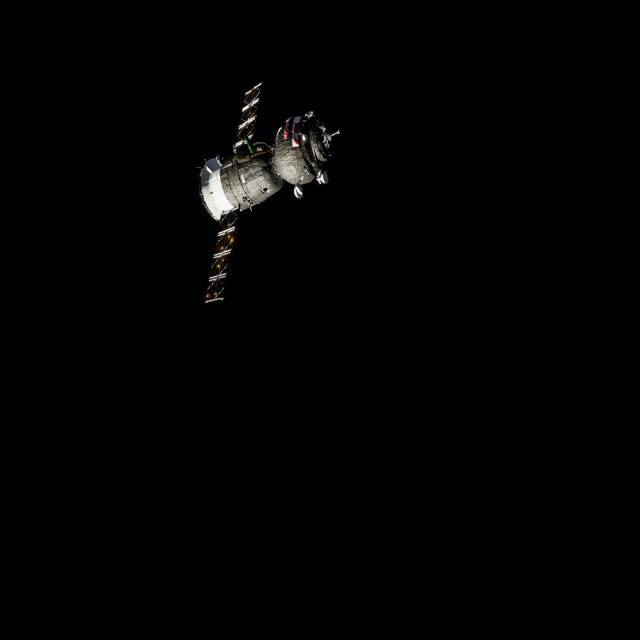Satellites revolving around earth: (196, 78, 342, 307)
